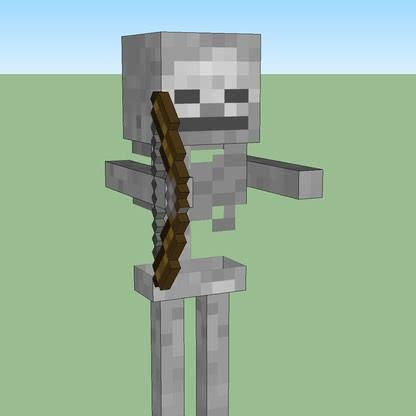skeleton: (102, 28, 298, 263)
